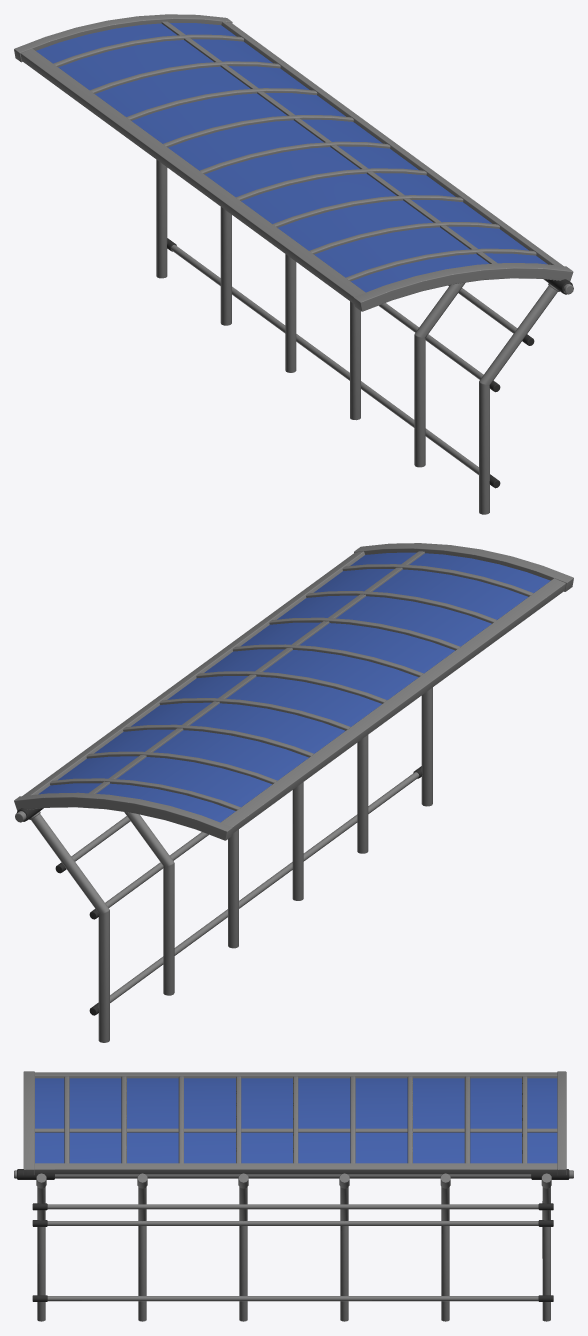
Rendered from SM_bikerack_roof.fbx.
3 views of the same model, one above another, from view 1: azimuth 30°, elevation 25°; view 2: azimuth 150°, elevation 25°; view 3: azimuth 270°, elevation 25° (orthographic). The views are drawn at different scales.
Visible parts, largest first — view 1: bickerack_roof; view 2: bickerack_roof; view 3: bickerack_roof.
Boxes of the visible parts, x1,y1,x2,y2 form: bickerack_roof: [14, 14, 573, 514]; bickerack_roof: [14, 543, 573, 1042]; bickerack_roof: [14, 1071, 573, 1321].
Bounding box in the file's own units: 123 × 137 × 345.
